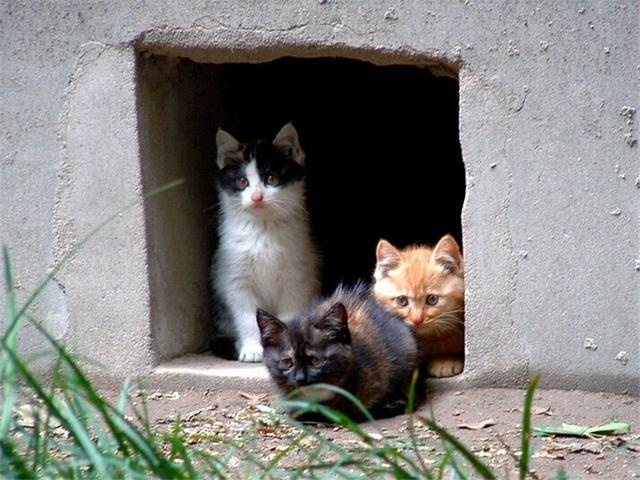cat: (208, 123, 321, 361), (253, 279, 417, 422), (372, 235, 465, 377)
